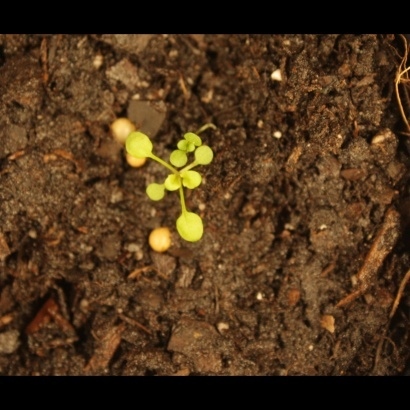leaf: (120, 127, 156, 169), (172, 211, 209, 249), (169, 148, 193, 173), (192, 144, 218, 167), (177, 131, 203, 154), (143, 181, 166, 206), (182, 168, 205, 191), (163, 172, 186, 195)
